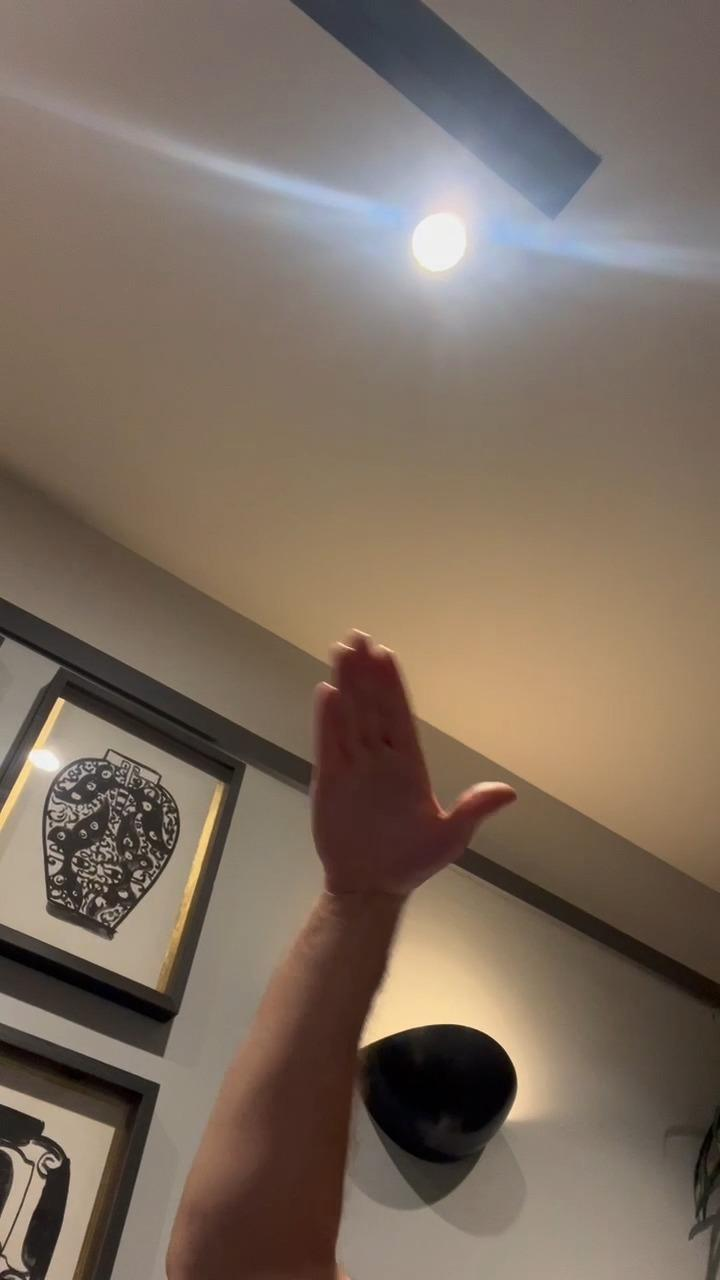Paper: (310, 628, 519, 897)
